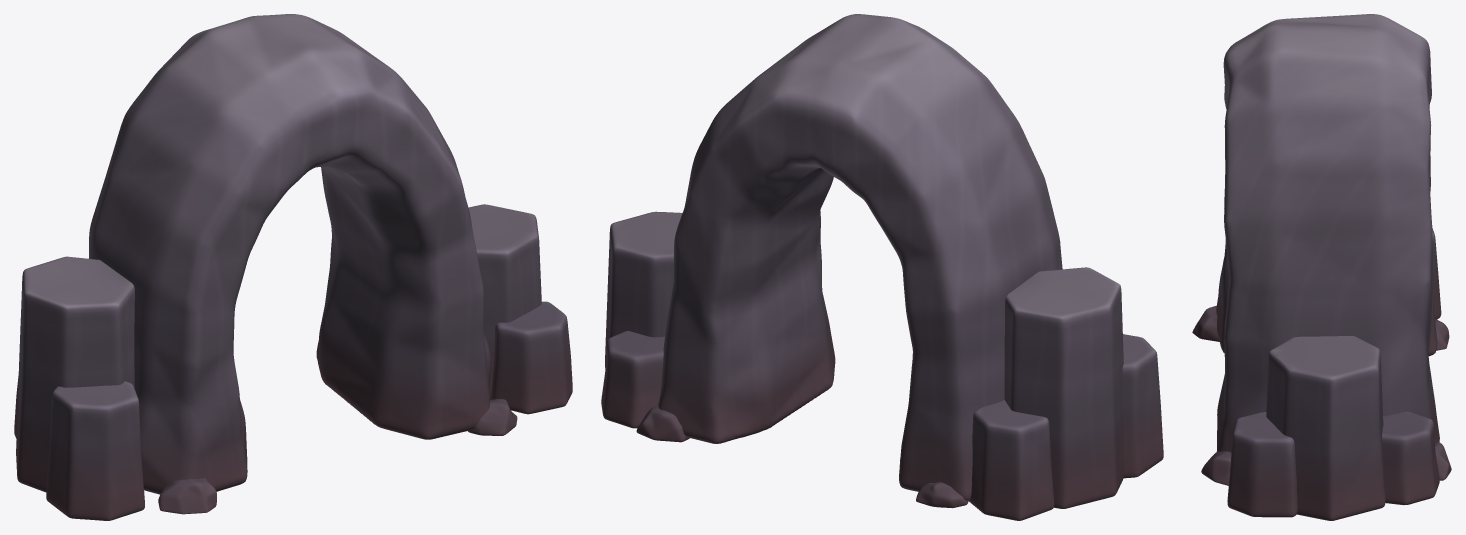
Rendered from EF_B04_BasaltArch.fbx.
3 renders of one model, left to right at view 1: azimuth 30°, elevation 25°; view 2: azimuth 150°, elevation 25°; view 3: azimuth 270°, elevation 25°, orthographic. The views are drawn at different scales.
Parts seen in each view (by area): view 1: Rock_LOD0; view 2: Rock_LOD0; view 3: Rock_LOD0.
Boxes of the visible parts, box(x1,y1,x2,y2) form: Rock_LOD0: box(14, 14, 572, 520); Rock_LOD0: box(601, 14, 1163, 520); Rock_LOD0: box(1192, 14, 1451, 520).
Size of what is drawn, in the model's own units: 22 by 16 by 10.
